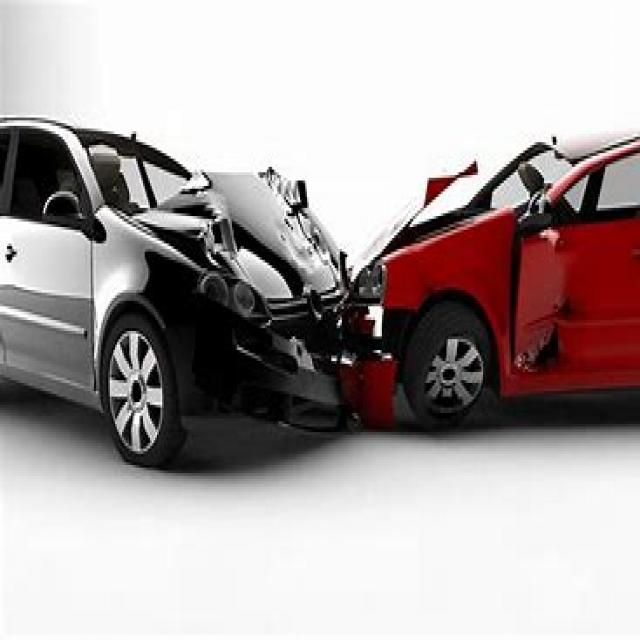Accident: (96, 73, 567, 578)
